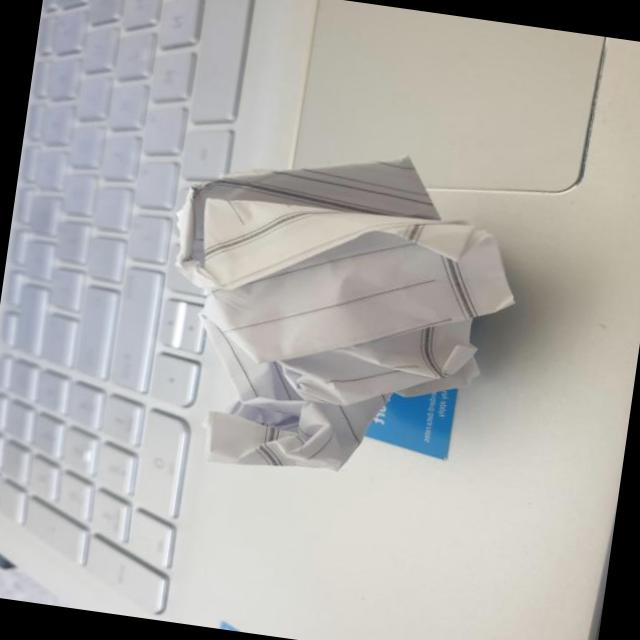cardboard paper: (177, 157, 511, 468)
